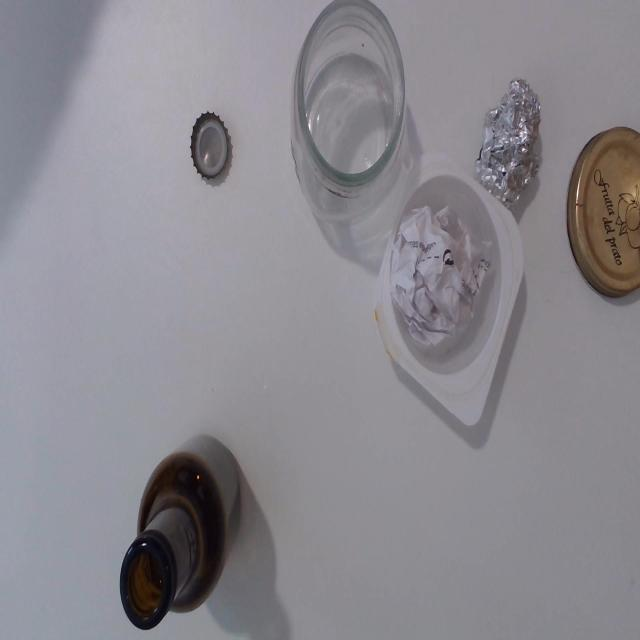Glass: (122, 422, 240, 640), (292, 0, 407, 203)
Paper: (400, 194, 493, 351)
